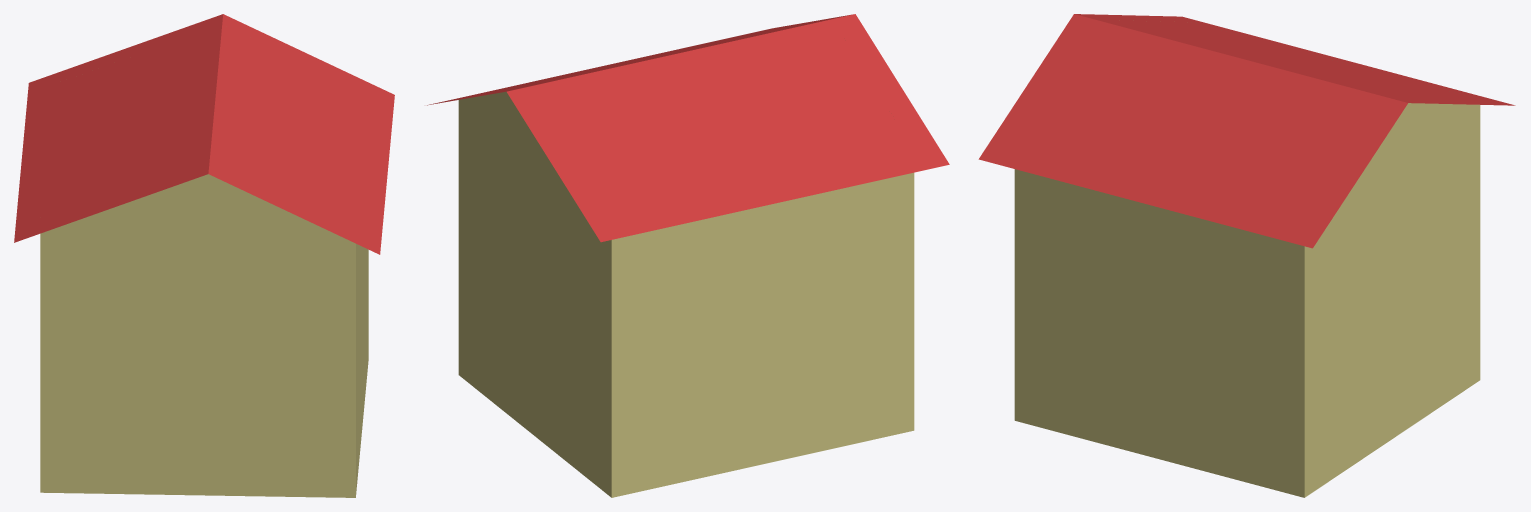
3 views of the same model, side by side, from view 1: azimuth 30°, elevation 25°; view 2: azimuth 150°, elevation 25°; view 3: azimuth 270°, elevation 25° (orthographic). The views are drawn at different scales.
Visible parts, largest first — view 1: group_5, group_3, group_4; view 2: group_5, group_3, group_4; view 3: group_5, group_3, group_4.
Part boxes in pixels (bbox=[...]): group_5: bbox=[40, 174, 368, 497]; group_3: bbox=[40, 14, 394, 254]; group_4: bbox=[14, 14, 319, 242]; group_5: bbox=[458, 91, 914, 497]; group_3: bbox=[427, 14, 913, 217]; group_4: bbox=[483, 14, 949, 241]; group_5: bbox=[1014, 103, 1480, 497]; group_3: bbox=[978, 14, 1478, 248]; group_4: bbox=[1075, 14, 1515, 180].
Size of the model in its own units: 15.21 by 15.33 by 10.88.
